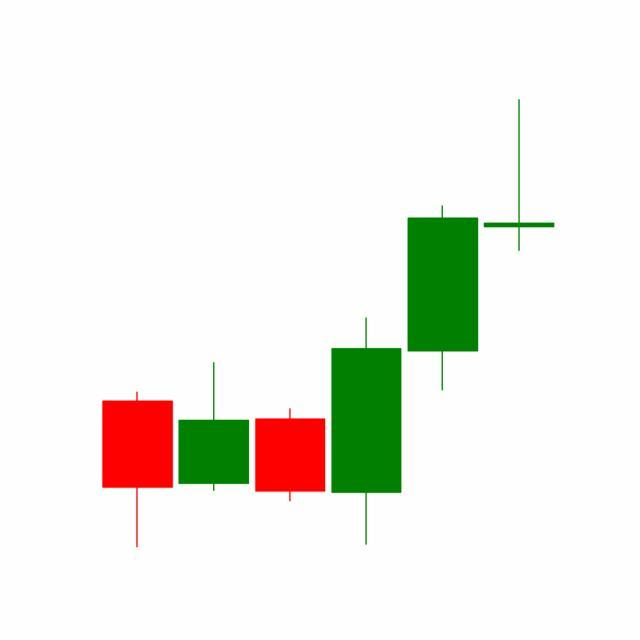Three Outside Up-Down: (252, 202, 482, 548)
